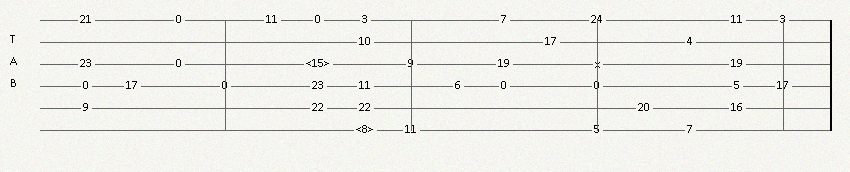0: (83, 80, 93, 92), (176, 58, 186, 70), (176, 14, 186, 26), (222, 80, 232, 92), (315, 14, 325, 26), (501, 80, 511, 92), (594, 80, 604, 92)
10: (359, 36, 375, 48)
11: (266, 14, 282, 26), (359, 80, 375, 92), (405, 124, 421, 136), (731, 14, 747, 26)
16: (731, 102, 747, 114)
17: (126, 80, 142, 92), (545, 36, 561, 48), (777, 80, 793, 92)
19: (498, 58, 514, 70), (731, 58, 747, 70)
20: (638, 102, 654, 114)
21: (80, 14, 96, 26)
22: (312, 102, 328, 114), (359, 102, 375, 114)
23: (80, 58, 96, 70), (312, 80, 328, 92)
24: (591, 14, 607, 26)
3: (362, 14, 372, 26), (780, 14, 790, 26)
4: (687, 36, 697, 48)
5: (594, 124, 604, 136), (734, 80, 744, 92)
6: (455, 80, 465, 92)
7: (501, 14, 511, 26), (687, 124, 697, 136)
9: (83, 102, 93, 114), (408, 58, 418, 70)
harmonic: (306, 58, 334, 70), (356, 124, 378, 136)
x: (595, 59, 604, 69)
